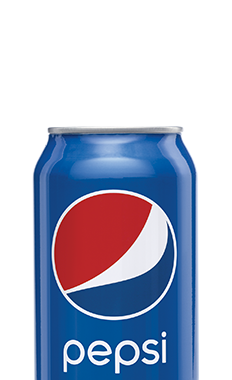pepsi: (49, 187, 176, 320)
